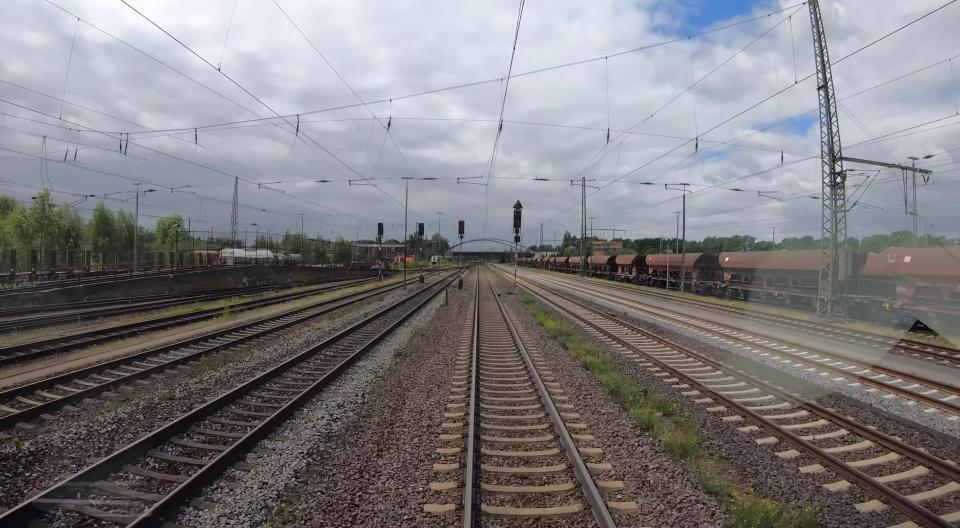Plant: (520, 297, 701, 459), (698, 466, 818, 528)
